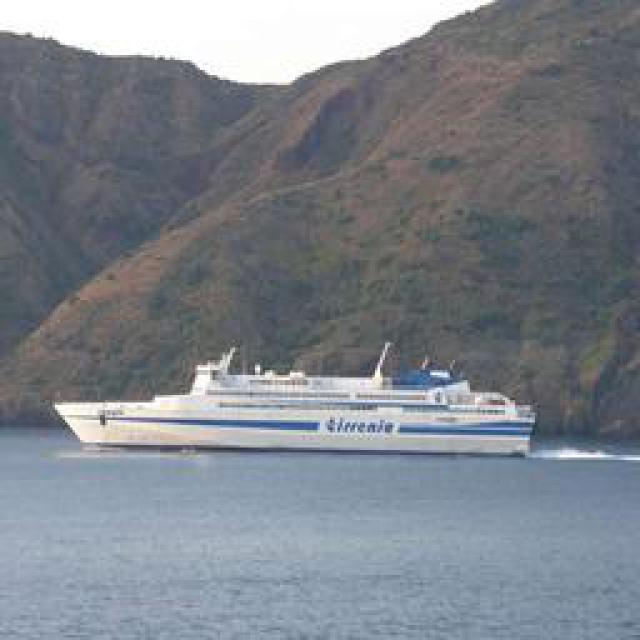Ship: (70, 344, 535, 457)
